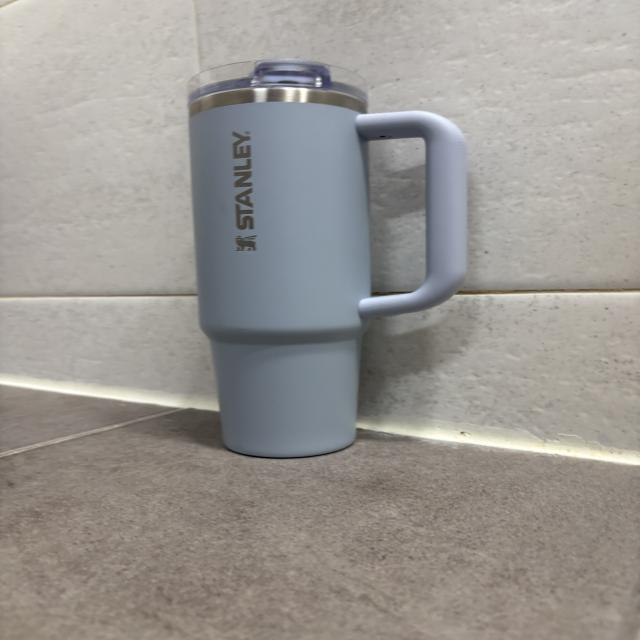waterbottle: (191, 57, 465, 458)
